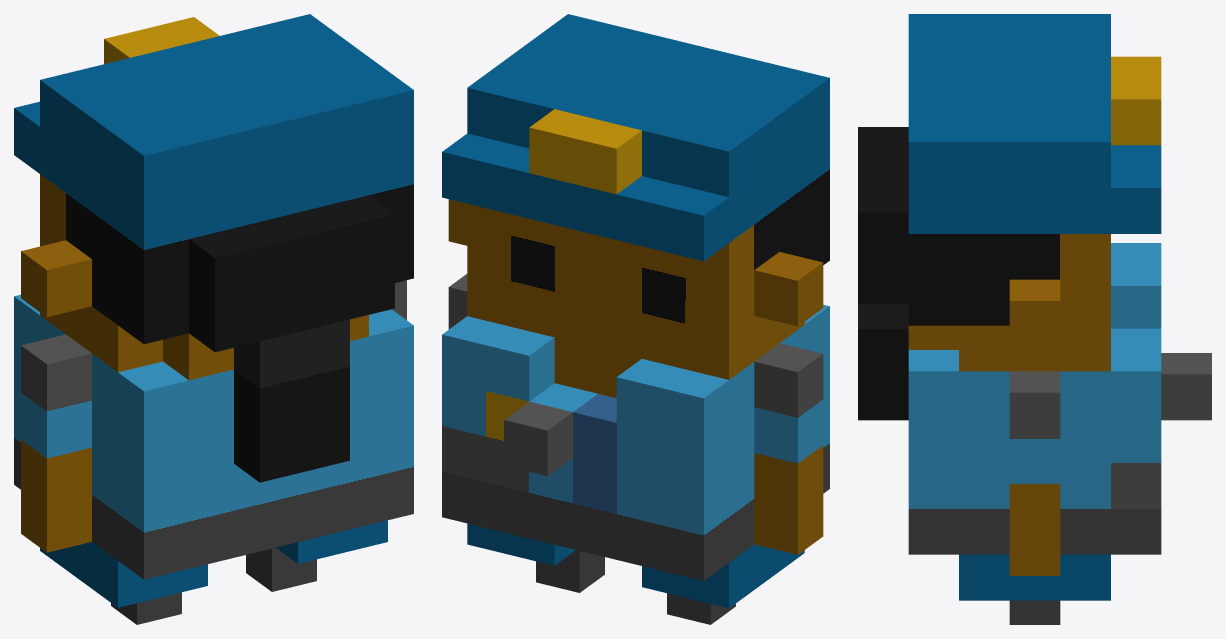
Rendered from chr_cop2.dae.
3 renders of one model, left to right at view 1: azimuth 30°, elevation 25°; view 2: azimuth 150°, elevation 25°; view 3: azimuth 270°, elevation 25°, orthographic. The views are drawn at different scales.
Visible parts, largest first — view 1: chr_cop2; view 2: chr_cop2; view 3: chr_cop2.
Boxes of the visible parts, x1,y1,x2,y2 form: chr_cop2: (14, 14, 413, 624); chr_cop2: (442, 14, 829, 624); chr_cop2: (858, 14, 1211, 624).
Bounding box in the file's own units: 0.8 × 0.7 × 1.1.
1 material, 1 textured.
